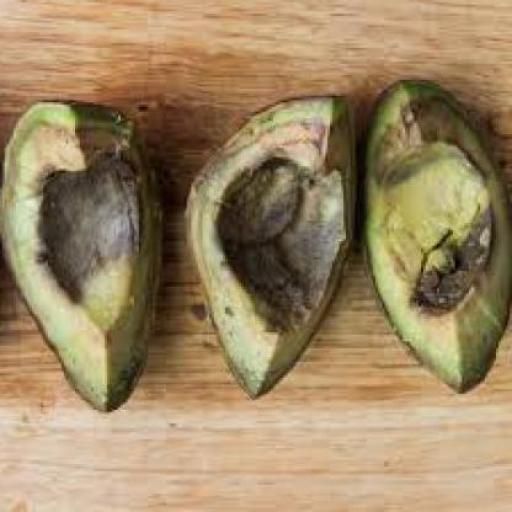biodegradable: (185, 95, 364, 403), (3, 100, 166, 419), (362, 82, 507, 398)
